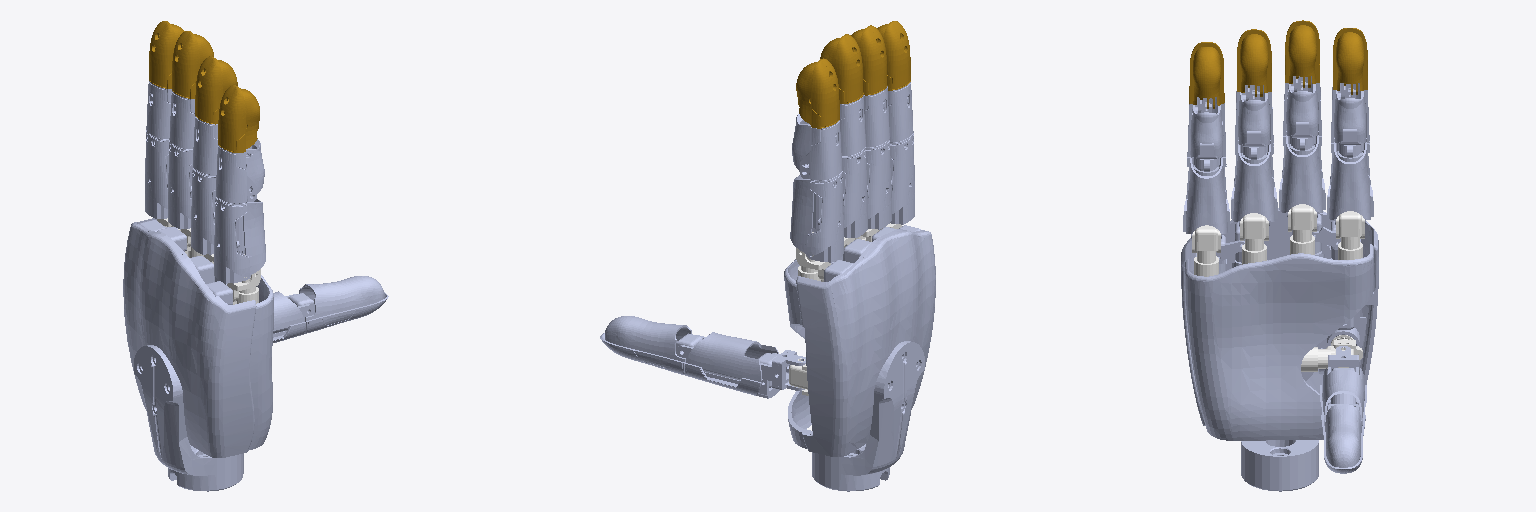
The robot description file, URDF, robot "gaiahand20_right":
<?xml version='1.0' encoding='utf-8'?>
<robot name="gaiahand20_right">
  <link name="right_base_link">
    <inertial>
      <origin xyz="-0.012736 0.0021055 0.089307" rpy="0 0 0" />
      <mass value="0.25552" />
      <inertia ixx="0.0001872" ixy="-6.513E-07" ixz="9.4711E-06" iyy="0.00012236" iyz="-3.9892E-06" izz="9.0958E-05" />
    </inertial>
    <visual>
      <origin xyz="0 0 0" rpy="0 0 0" />
      <geometry>
        <mesh filename="meshes/right/right_base_link.STL" />
      </geometry>
      <material name="">
        <color rgba="0.792156862745098 0.819607843137255 0.933333333333333 1" />
      </material>
    </visual>
    <collision>
      <origin xyz="0 0 0" rpy="0 0 0" />
      <geometry>
        <mesh filename="meshes/right/right_base_link.STL" />
      </geometry>
    </collision>
  </link>
  <link name="right_thumb_link_1">
    <inertial>
      <origin xyz="4.59873452525114E-06 0.0117078315613512 0.0170967629151401" rpy="0 0 0" />
      <mass value="0.0293793580935524" />
      <inertia ixx="0.000005" ixy="0.000001" ixz="0.000000" iyy="0.000002" iyz="0.000000" izz="0.000006" />
    </inertial>
    <visual>
      <origin xyz="0 0 0" rpy="0 0 0" />
      <geometry>
        <mesh filename="meshes/right/right_thumb_link_1.STL" />
      </geometry>
      <material name="">
        <color rgba="1 1 1 1" />
      </material>
    </visual>
    <collision>
      <origin xyz="0 0 0" rpy="0 0 0" />
      <geometry>
        <mesh filename="meshes/right/right_thumb_link_1.STL" />
      </geometry>
    </collision>
  </link>
  <joint name="right_thumb_joint_1" type="revolute">
    <origin xyz="-0.012868 0.032392 0.068452" rpy="-1.5708 -1.5705 -1.5708" />
    <parent link="right_base_link" />
    <child link="right_thumb_link_1" />
    <axis xyz="0 0 1" />
    <limit lower="-0.6981" upper="0.6981" effort="0" velocity="0" />
  </joint>
  <link name="right_thumb_link_2">
    <inertial>
      <origin xyz="0.00999538873035311 -3.32108297113054E-09 8.40028750509238E-05" rpy="0 0 0" />
      <mass value="0.004365126948583" />
      <inertia ixx="0.000000" ixy="0.000000" ixz="0.000000" iyy="0.000000" iyz="0.000000" izz="0.000000" />
    </inertial>
    <visual>
      <origin xyz="0 0 0" rpy="0 0 0" />
      <geometry>
        <mesh filename="meshes/right/right_thumb_link_2.STL" />
      </geometry>
      <material name="">
        <color rgba="0.792156862745098 0.819607843137255 0.933333333333333 1" />
      </material>
    </visual>
    <collision>
      <origin xyz="0 0 0" rpy="0 0 0" />
      <geometry>
        <mesh filename="meshes/right/right_thumb_link_2.STL" />
      </geometry>
    </collision>
  </link>
  <joint name="right_thumb_joint_2" type="revolute">
    <origin xyz="0 0 0.02355" rpy="0 -1.5708 0" />
    <parent link="right_thumb_link_1" />
    <child link="right_thumb_link_2" />
    <axis xyz="0 0 -1" />
    <limit lower="-1.0472" upper="1.5708" effort="0" velocity="0" />
  </joint>
  <link name="right_thumb_link_3">
    <inertial>
      <origin xyz="0.0155316673642969 -0.00474995778430732 5.38957684267233E-06" rpy="0 0 0" />
      <mass value="0.0306111200991876" />
      <inertia ixx="0.000001" ixy="0.000000" ixz="0.000000" iyy="0.000006" iyz="0.000000" izz="0.000006" />
    </inertial>
    <visual>
      <origin xyz="0 0 0" rpy="0 0 0" />
      <geometry>
        <mesh filename="meshes/right/right_thumb_link_3.STL" />
      </geometry>
      <material name="">
        <color rgba="0.792156862745098 0.819607843137255 0.933333333333333 1" />
      </material>
    </visual>
    <collision>
      <origin xyz="0 0 0" rpy="0 0 0" />
      <geometry>
        <mesh filename="meshes/right/right_thumb_link_3.STL" />
      </geometry>
    </collision>
  </link>
  <joint name="right_thumb_joint_3" type="revolute">
    <origin xyz="0.02 0 0" rpy="-1.5708 0 0" />
    <parent link="right_thumb_link_2" />
    <child link="right_thumb_link_3" />
    <axis xyz="0 0 1" />
    <limit lower="0" upper="1.5708" effort="0" velocity="0" />
  </joint>
  <link name="right_thumb_link_4">
    <inertial>
      <origin xyz="0.0158264161448218 -0.00419485306612965 4.87986416741748E-06" rpy="0 0 0" />
      <mass value="0.0275584560502729" />
      <inertia ixx="0.000001" ixy="0.000000" ixz="0.000000" iyy="0.000005" iyz="0.000000" izz="0.000005" />
    </inertial>
    <visual>
      <origin xyz="0 0 0" rpy="0 0 0" />
      <geometry>
        <mesh filename="meshes/right/right_thumb_link_4.STL" />
      </geometry>
      <material name="">
        <color rgba="0.792156862745098 0.819607843137255 0.933333333333333 1" />
      </material>
    </visual>
    <collision>
      <origin xyz="0 0 0" rpy="0 0 0" />
      <geometry>
        <mesh filename="meshes/right/right_thumb_link_4.STL" />
      </geometry>
    </collision>
  </link>
  <joint name="right_thumb_joint_4" type="revolute">
    <origin xyz="0.0465 0 0" rpy="0 0 0" />
    <parent link="right_thumb_link_3" />
    <child link="right_thumb_link_4" />
    <axis xyz="0 0 1" />
    <limit lower="0" upper="1.5708" effort="0" velocity="0" />
  </joint>
  <link name="right_index_link_1">
    <inertial>
      <origin xyz="0.000743908629022523 -5.55341323325853E-06 0.00357430253049612" rpy="0 0 0" />
      <mass value="0.0288509871302188" />
      <inertia ixx="0.000004" ixy="0.000000" ixz="0.000000" iyy="0.000004" iyz="0.000000" izz="0.000001" />
    </inertial>
    <visual>
      <origin xyz="0 0 0" rpy="0 0 0" />
      <geometry>
        <mesh filename="meshes/right/right_index_link_1.STL" />
      </geometry>
      <material name="">
        <color rgba="1 1 1 1" />
      </material>
    </visual>
    <collision>
      <origin xyz="0 0 0" rpy="0 0 0" />
      <geometry>
        <mesh filename="meshes/right/right_index_link_1.STL" />
      </geometry>
    </collision>
  </link>
  <joint name="right_index_joint_1" type="revolute">
    <origin xyz="-0.0016678 0.035869 0.1306" rpy="-1.5708 -1.5705 -1.5708" />
    <parent link="right_base_link" />
    <child link="right_index_link_1" />
    <axis xyz="0 0 1" />
    <limit lower="-0.6981" upper="0.3491" effort="0" velocity="0" />
  </joint>
  <link name="right_index_link_2">
    <inertial>
      <origin xyz="0.0313933776378512 -0.00152877020642319 -4.42497851162182E-06" rpy="0 0 0" />
      <mass value="0.0304803820111362" />
      <inertia ixx="0.000007" ixy="0.000000" ixz="-0.000001" iyy="0.000007" iyz="0.000000" izz="0.000001" />
    </inertial>
    <visual>
      <origin xyz="0 0 0" rpy="0 0 0" />
      <geometry>
        <mesh filename="meshes/right/right_index_link_2.STL" />
      </geometry>
      <material name="">
        <color rgba="0.792156862745098 0.819607843137255 0.933333333333333 1" />
      </material>
    </visual>
    <collision>
      <origin xyz="0 0 0" rpy="0 0 0" />
      <geometry>
        <mesh filename="meshes/right/right_index_link_2.STL" />
      </geometry>
    </collision>
  </link>
  <joint name="right_index_joint_2" type="revolute">
    <origin xyz="0.014 0 0" rpy="1.5708 0 0" />
    <parent link="right_index_link_1" />
    <child link="right_index_link_2" />
    <axis xyz="0 0 1" />
    <limit lower="0" upper="1.5708" effort="0" velocity="0" />
  </joint>
  <link name="right_index_link_3">
    <inertial>
      <origin xyz="0.0121799388549619 -0.00381320078798462 -0.0010283975785302" rpy="0 0 0" />
      <mass value="0.00393370093981394" />
      <inertia ixx="0.000000" ixy="0.000000" ixz="0.000000" iyy="0.000000" iyz="0.000000" izz="0.000000" />
    </inertial>
    <visual>
      <origin xyz="0 0 0" rpy="0 0 0" />
      <geometry>
        <mesh filename="meshes/right/right_index_link_3.STL" />
      </geometry>
      <material name="">
        <color rgba="0.792156862745098 0.819607843137255 0.933333333333333 1" />
      </material>
    </visual>
    <collision>
      <origin xyz="0 0 0" rpy="0 0 0" />
      <geometry>
        <mesh filename="meshes/right/right_index_link_3.STL" />
      </geometry>
    </collision>
  </link>
  <joint name="right_index_joint_3" type="revolute">
    <origin xyz="0.0489 0.00312 0" rpy="0 0 0" />
    <parent link="right_index_link_2" />
    <child link="right_index_link_3" />
    <axis xyz="0 0 1" />
    <limit lower="0" upper="1.5708" effort="0" velocity="0" />
  </joint>
  <link name="right_index_link_4">
    <inertial>
      <origin xyz="0.0093271688625714 -0.00406005222330917 7.09260613723853E-05" rpy="0 0 0" />
      <mass value="0.00496625808965121" />
      <inertia ixx="0.000000" ixy="0.000000" ixz="0.000000" iyy="0.000000" iyz="0.000000" izz="0.000000" />
    </inertial>
    <visual>
      <origin xyz="0 0 0" rpy="0 0 0" />
      <geometry>
        <mesh filename="meshes/right/right_index_link_4.STL" />
      </geometry>
      <material name="">
        <color rgba="0.729411764705882 0.552941176470588 0.145098039215686 1" />
      </material>
    </visual>
    <collision>
      <origin xyz="0 0 0" rpy="0 0 0" />
      <geometry>
        <mesh filename="meshes/right/right_index_link_4.STL" />
      </geometry>
    </collision>
  </link>
  <joint name="right_index_joint_4" type="revolute">
    <origin xyz="0.03 0 0" rpy="0 0 0" />
    <parent link="right_index_link_3" />
    <child link="right_index_link_4" />
    <axis xyz="0 0 1" />
    <mimic joint="right_index_joint_3" multiplier="1.0" offset="0" />
    <limit lower="0" upper="1.5708" effort="0" velocity="0" />
  </joint>
  <link name="right_middle_link_1">
    <inertial>
      <origin xyz="0.000743895525769034 -7.09562966077701E-06 0.0035743025137824" rpy="0 0 0" />
      <mass value="0.0288509871628647" />
      <inertia ixx="0.000004" ixy="0.000000" ixz="0.000000" iyy="0.000004" iyz="0.000000" izz="0.000001" />
    </inertial>
    <visual>
      <origin xyz="0 0 0" rpy="0 0 0" />
      <geometry>
        <mesh filename="meshes/right/right_middle_link_1.STL" />
      </geometry>
      <material name="">
        <color rgba="1 1 1 1" />
      </material>
    </visual>
    <collision>
      <origin xyz="0 0 0" rpy="0 0 0" />
      <geometry>
        <mesh filename="meshes/right/right_middle_link_1.STL" />
      </geometry>
    </collision>
  </link>
  <joint name="right_middle_joint_1" type="revolute">
    <origin xyz="-0.0016678 0.011319 0.13459" rpy="-1.5708 -1.5705 -1.5708" />
    <parent link="right_base_link" />
    <child link="right_middle_link_1" />
    <axis xyz="0 0 1" />
    <limit lower="-0.5236" upper="0.5236" effort="0" velocity="0" />
  </joint>
  <link name="right_middle_link_2">
    <inertial>
      <origin xyz="0.0313933781819635 -0.00152877026923516 -4.42504304134193E-06" rpy="0 0 0" />
      <mass value="0.0304803814022287" />
      <inertia ixx="0.000007" ixy="0.000000" ixz="-0.000001" iyy="0.000007" iyz="0.000000" izz="0.000001" />
    </inertial>
    <visual>
      <origin xyz="0 0 0" rpy="0 0 0" />
      <geometry>
        <mesh filename="meshes/right/right_middle_link_2.STL" />
      </geometry>
      <material name="">
        <color rgba="0.792156862745098 0.819607843137255 0.933333333333333 1" />
      </material>
    </visual>
    <collision>
      <origin xyz="0 0 0" rpy="0 0 0" />
      <geometry>
        <mesh filename="meshes/right/right_middle_link_2.STL" />
      </geometry>
    </collision>
  </link>
  <joint name="right_middle_joint_2" type="revolute">
    <origin xyz="0.014 -2.9024E-05 0" rpy="1.5708 0 -0.0020732" />
    <parent link="right_middle_link_1" />
    <child link="right_middle_link_2" />
    <axis xyz="0 0 1" />
    <limit lower="0" upper="1.5708" effort="0" velocity="0" />
  </joint>
  <link name="right_middle_link_3">
    <inertial>
      <origin xyz="0.012179937973861 -0.00381320273518451 -0.00102839797795001" rpy="0 0 0" />
      <mass value="0.00393370033061842" />
      <inertia ixx="0.000000" ixy="0.000000" ixz="0.000000" iyy="0.000000" iyz="0.000000" izz="0.000000" />
    </inertial>
    <visual>
      <origin xyz="0 0 0" rpy="0 0 0" />
      <geometry>
        <mesh filename="meshes/right/right_middle_link_3.STL" />
      </geometry>
      <material name="">
        <color rgba="0.792156862745098 0.819607843137255 0.933333333333333 1" />
      </material>
    </visual>
    <collision>
      <origin xyz="0 0 0" rpy="0 0 0" />
      <geometry>
        <mesh filename="meshes/right/right_middle_link_3.STL" />
      </geometry>
    </collision>
  </link>
  <joint name="right_middle_joint_3" type="revolute">
    <origin xyz="0.0489 0.00312 0" rpy="0 0 0" />
    <parent link="right_middle_link_2" />
    <child link="right_middle_link_3" />
    <axis xyz="0 0 1" />
    <limit lower="0" upper="1.5708" effort="0" velocity="0" />
  </joint>
  <link name="right_middle_link_4">
    <inertial>
      <origin xyz="0.00932716914952836 -0.00406005253689868 7.09260383274651E-05" rpy="0 0 0" />
      <mass value="0.00496625793579307" />
      <inertia ixx="0.000000" ixy="0.000000" ixz="0.000000" iyy="0.000000" iyz="0.000000" izz="0.000000" />
    </inertial>
    <visual>
      <origin xyz="0 0 0" rpy="0 0 0" />
      <geometry>
        <mesh filename="meshes/right/right_middle_link_4.STL" />
      </geometry>
      <material name="">
        <color rgba="0.729411764705882 0.552941176470588 0.145098039215686 1" />
      </material>
    </visual>
    <collision>
      <origin xyz="0 0 0" rpy="0 0 0" />
      <geometry>
        <mesh filename="meshes/right/right_middle_link_4.STL" />
      </geometry>
    </collision>
  </link>
  <joint name="right_middle_joint_4" type="revolute">
    <origin xyz="0.03 0 0" rpy="0 0 0" />
    <parent link="right_middle_link_3" />
    <child link="right_middle_link_4" />
    <axis xyz="0 0 1" />
    <mimic joint="right_middle_joint_3" multiplier="1.0" offset="0" />
    <limit lower="0" upper="1.5708" effort="0" velocity="0" />
  </joint>
  <link name="right_ring_link_1">
    <inertial>
      <origin xyz="0.000743908629034874 -5.55341323327761E-06 0.00357430253047761" rpy="0 0 0" />
      <mass value="0.0288509871302187" />
      <inertia ixx="0.000004" ixy="0.000000" ixz="0.000000" iyy="0.000004" iyz="0.000000" izz="0.000001" />
    </inertial>
    <visual>
      <origin xyz="0 0 0" rpy="0 0 0" />
      <geometry>
        <mesh filename="meshes/right/right_ring_link_1.STL" />
      </geometry>
      <material name="">
        <color rgba="1 1 1 1" />
      </material>
    </visual>
    <collision>
      <origin xyz="0 0 0" rpy="0 0 0" />
      <geometry>
        <mesh filename="meshes/right/right_ring_link_1.STL" />
      </geometry>
    </collision>
  </link>
  <joint name="right_ring_joint_1" type="revolute">
    <origin xyz="-0.0016678 -0.013175 0.12959" rpy="-1.5708 -1.5705 -1.5708" />
    <parent link="right_base_link" />
    <child link="right_ring_link_1" />
    <axis xyz="0 0 1" />
    <limit lower="-0.3491" upper="0.6109" effort="0" velocity="0" />
  </joint>
  <link name="right_ring_link_2">
    <inertial>
      <origin xyz="0.0313933776378529 -0.00152877020638439 -4.42497851214224E-06" rpy="0 0 0" />
      <mass value="0.0304803820111361" />
      <inertia ixx="0.000007" ixy="0.000000" ixz="-0.000001" iyy="0.000007" iyz="0.000000" izz="0.000001" />
    </inertial>
    <visual>
      <origin xyz="0 0 0" rpy="0 0 0" />
      <geometry>
        <mesh filename="meshes/right/right_ring_link_2.STL" />
      </geometry>
      <material name="">
        <color rgba="0.792156862745098 0.819607843137255 0.933333333333333 1" />
      </material>
    </visual>
    <collision>
      <origin xyz="0 0 0" rpy="0 0 0" />
      <geometry>
        <mesh filename="meshes/right/right_ring_link_2.STL" />
      </geometry>
    </collision>
  </link>
  <joint name="right_ring_joint_2" type="revolute">
    <origin xyz="0.014 0 0" rpy="1.5708 0 0" />
    <parent link="right_ring_link_1" />
    <child link="right_ring_link_2" />
    <axis xyz="0 0 1" />
    <limit lower="0" upper="1.5708" effort="0" velocity="0" />
  </joint>
  <link name="right_ring_link_3">
    <inertial>
      <origin xyz="0.012179938765627 -0.00381320056058107 -0.00102839749609262" rpy="0 0 0" />
      <mass value="0.00393370099614391" />
      <inertia ixx="0.000000" ixy="0.000000" ixz="0.000000" iyy="0.000000" iyz="0.000000" izz="0.000000" />
    </inertial>
    <visual>
      <origin xyz="0 0 0" rpy="0 0 0" />
      <geometry>
        <mesh filename="meshes/right/right_ring_link_3.STL" />
      </geometry>
      <material name="">
        <color rgba="0.792156862745098 0.819607843137255 0.933333333333333 1" />
      </material>
    </visual>
    <collision>
      <origin xyz="0 0 0" rpy="0 0 0" />
      <geometry>
        <mesh filename="meshes/right/right_ring_link_3.STL" />
      </geometry>
    </collision>
  </link>
  <joint name="right_ring_joint_3" type="revolute">
    <origin xyz="0.0489 0.00312 0" rpy="0 0 0" />
    <parent link="right_ring_link_2" />
    <child link="right_ring_link_3" />
    <axis xyz="0 0 1" />
    <limit lower="0" upper="1.5708" effort="0" velocity="0" />
  </joint>
  <link name="right_ring_link_4">
    <inertial>
      <origin xyz="0.00932716886256235 -0.00406005222329535 7.09260613699393E-05" rpy="0 0 0" />
      <mass value="0.004966258089651" />
      <inertia ixx="0.000000" ixy="0.000000" ixz="0.000000" iyy="0.000000" iyz="0.000000" izz="0.000000" />
    </inertial>
    <visual>
      <origin xyz="0 0 0" rpy="0 0 0" />
      <geometry>
        <mesh filename="meshes/right/right_ring_link_4.STL" />
      </geometry>
      <material name="">
        <color rgba="0.729411764705882 0.552941176470588 0.145098039215686 1" />
      </material>
    </visual>
    <collision>
      <origin xyz="0 0 0" rpy="0 0 0" />
      <geometry>
        <mesh filename="meshes/right/right_ring_link_4.STL" />
      </geometry>
    </collision>
  </link>
  <joint name="right_ring_joint_4" type="revolute">
    <origin xyz="0.03 0 0" rpy="0 0 0" />
    <parent link="right_ring_link_3" />
    <child link="right_ring_link_4" />
    <axis xyz="0 0 1" />
    <mimic joint="right_ring_joint_3" multiplier="1.0" offset="0" />
    <limit lower="0" upper="1.5708" effort="0" velocity="0" />
  </joint>
  <link name="right_little_link_1">
    <inertial>
      <origin xyz="0.000743895525769471 -7.09562966128702E-06 0.00357430251378242" rpy="0 0 0" />
      <mass value="0.0288509871628647" />
      <inertia ixx="0.000004" ixy="0.000000" ixz="0.000000" iyy="0.000004" iyz="0.000000" izz="0.000001" />
    </inertial>
    <visual>
      <origin xyz="0 0 0" rpy="0 0 0" />
      <geometry>
        <mesh filename="meshes/right/right_little_link_1.STL" />
      </geometry>
      <material name="">
        <color rgba="1 1 1 1" />
      </material>
    </visual>
    <collision>
      <origin xyz="0 0 0" rpy="0 0 0" />
      <geometry>
        <mesh filename="meshes/right/right_little_link_1.STL" />
      </geometry>
    </collision>
  </link>
  <joint name="right_little_joint_1" type="revolute">
    <origin xyz="-0.0016678 -0.037584 0.12258" rpy="-1.5708 -1.5705 -1.5708" />
    <parent link="right_base_link" />
    <child link="right_little_link_1" />
    <axis xyz="0 0 1" />
    <limit lower="0" upper="0.6981" effort="0" velocity="0" />
  </joint>
  <link name="right_little_link_2">
    <inertial>
      <origin xyz="0.0313933781817062 -0.0015287702708865 -4.42504300206953E-06" rpy="0 0 0" />
      <mass value="0.0304803814066348" />
      <inertia ixx="0.000007" ixy="0.000000" ixz="-0.000001" iyy="0.000007" iyz="0.000000" izz="0.000001" />
    </inertial>
    <visual>
      <origin xyz="0 0 0" rpy="0 0 0" />
      <geometry>
        <mesh filename="meshes/right/right_little_link_2.STL" />
      </geometry>
      <material name="">
        <color rgba="0.792156862745098 0.819607843137255 0.933333333333333 1" />
      </material>
    </visual>
    <collision>
      <origin xyz="0 0 0" rpy="0 0 0" />
      <geometry>
        <mesh filename="meshes/right/right_little_link_2.STL" />
      </geometry>
    </collision>
  </link>
  <joint name="right_little_joint_2" type="revolute">
    <origin xyz="0.014 -2.9024E-05 0" rpy="1.5708 0 -0.0020732" />
    <parent link="right_little_link_1" />
    <child link="right_little_link_2" />
    <axis xyz="0 0 1" />
    <limit lower="0" upper="1.5708" effort="0" velocity="0" />
  </joint>
  <link name="right_little_link_3">
    <inertial>
      <origin xyz="0.0121799378841558 -0.00381320250691307 -0.0010283978953143" rpy="0 0 0" />
      <mass value="0.00393370038722117" />
      <inertia ixx="0.000000" ixy="0.000000" ixz="0.000000" iyy="0.000000" iyz="0.000000" izz="0.000000" />
    </inertial>
    <visual>
      <origin xyz="0 0 0" rpy="0 0 0" />
      <geometry>
        <mesh filename="meshes/right/right_little_link_3.STL" />
      </geometry>
      <material name="">
        <color rgba="0.792156862745098 0.819607843137255 0.933333333333333 1" />
      </material>
    </visual>
    <collision>
      <origin xyz="0 0 0" rpy="0 0 0" />
      <geometry>
        <mesh filename="meshes/right/right_little_link_3.STL" />
      </geometry>
    </collision>
  </link>
  <joint name="right_little_joint_3" type="revolute">
    <origin xyz="0.0489 0.00312 0" rpy="0 0 0" />
    <parent link="right_little_link_2" />
    <child link="right_little_link_3" />
    <axis xyz="0 0 1" />
    <limit lower="0" upper="1.5708" effort="0" velocity="0" />
  </joint>
  <link name="right_little_link_4">
    <inertial>
      <origin xyz="0.00932716914948373 -0.00406005253700263 7.09260383258623E-05" rpy="0 0 0" />
      <mass value="0.00496625793579298" />
      <inertia ixx="0.000000" ixy="0.000000" ixz="0.000000" iyy="0.000000" iyz="0.000000" izz="0.000000" />
    </inertial>
    <visual>
      <origin xyz="0 0 0" rpy="0 0 0" />
      <geometry>
        <mesh filename="meshes/right/right_little_link_4.STL" />
      </geometry>
      <material name="">
        <color rgba="0.729411764705882 0.552941176470588 0.145098039215686 1" />
      </material>
    </visual>
    <collision>
      <origin xyz="0 0 0" rpy="0 0 0" />
      <geometry>
        <mesh filename="meshes/right/right_little_link_4.STL" />
      </geometry>
    </collision>
  </link>
  <joint name="right_little_joint_4" type="revolute">
    <origin xyz="0.03 0 0" rpy="0 0 0" />
    <parent link="right_little_link_3" />
    <child link="right_little_link_4" />
    <axis xyz="0 0 1" />
    <mimic joint="right_little_joint_3" multiplier="1.0" offset="0" />
    <limit lower="0" upper="1.5708" effort="0" velocity="0" />
  </joint>
  <link name="right_thumb_tip" />
  <joint name="right_thumb_tip_joint" type="fixed">
    <origin xyz="0.046 0 0" rpy="0 0 0" />
    <parent link="right_thumb_link_4" />
    <child link="right_thumb_tip" />
  </joint>
  <link name="right_index_tip" />
  <joint name="right_index_tip_joint" type="fixed">
    <origin xyz="0.028 0 0" rpy="0 0 0" />
    <parent link="right_index_link_4" />
    <child link="right_index_tip" />
  </joint>
  <link name="right_middle_tip" />
  <joint name="right_middle_tip_joint" type="fixed">
    <origin xyz="0.028 0 0" rpy="0 0 0" />
    <parent link="right_middle_link_4" />
    <child link="right_middle_tip" />
  </joint>
  <link name="right_ring_tip" />
  <joint name="right_ring_tip_joint" type="fixed">
    <origin xyz="0.028 0 0" rpy="0 0 0" />
    <parent link="right_ring_link_4" />
    <child link="right_ring_tip" />
  </joint>
  <link name="right_little_tip" />
  <joint name="right_little_tip_joint" type="fixed">
    <origin xyz="0.028 0 0" rpy="0 0 0" />
    <parent link="right_little_link_4" />
    <child link="right_little_tip" />
  </joint>
</robot>

--- Render facts (derived) ---
Views: 3 orthographic renders of the robot side by side, from view 1: azimuth 30°, elevation 25°; view 2: azimuth 150°, elevation 25°; view 3: azimuth 270°, elevation 25°.
Robot: gaiahand20_right — 26 links, 25 joints (20 revolute, 5 fixed); root link right_base_link; default pose: all joints at 0.
Visible links, largest first — view 1: right_base_link, right_little_link_2, right_thumb_link_4, right_little_link_3, right_little_link_4, right_middle_link_2, right_ring_link_4, right_ring_link_2, right_index_link_2, right_middle_link_4, right_index_link_4, right_thumb_link_3 (+4 smaller); view 2: right_base_link, right_thumb_link_3, right_index_link_2, right_thumb_link_4, right_index_link_3, right_index_link_4, right_middle_link_2, right_ring_link_2, right_little_link_2, right_middle_link_4, right_ring_link_4, right_little_link_4 (+5 smaller); view 3: right_base_link, right_ring_link_2, right_index_link_2, right_middle_link_2, right_little_link_2, right_thumb_link_4, right_ring_link_4, right_middle_link_4, right_index_link_4, right_little_link_4, right_little_link_3, right_index_link_3 (+9 smaller).
Boxes of the visible links, <box> form: right_base_link: <box>123,218,273,491</box>; right_little_link_2: <box>214,186,265,283</box>; right_thumb_link_4: <box>289,276,388,333</box>; right_little_link_3: <box>216,139,264,204</box>; right_little_link_4: <box>218,85,259,152</box>; right_middle_link_2: <box>168,141,192,229</box>; right_ring_link_4: <box>195,56,237,124</box>; right_ring_link_2: <box>191,168,215,254</box>; right_index_link_2: <box>145,131,168,218</box>; right_middle_link_4: <box>172,31,213,98</box>; right_index_link_4: <box>149,21,184,88</box>; right_thumb_link_3: <box>273,291,314,342</box>; right_base_link: <box>784,225,935,491</box>; right_thumb_link_3: <box>676,332,779,398</box>; right_index_link_2: <box>790,162,843,262</box>; right_thumb_link_4: <box>600,316,702,375</box>; right_index_link_3: <box>792,114,841,181</box>; right_index_link_4: <box>796,58,839,128</box>; right_middle_link_2: <box>842,149,867,237</box>; right_ring_link_2: <box>866,140,891,229</box>; right_little_link_2: <box>890,134,914,224</box>; right_middle_link_4: <box>820,34,863,103</box>; right_ring_link_4: <box>851,25,887,95</box>; right_little_link_4: <box>877,21,910,90</box>; right_base_link: <box>1181,208,1378,491</box>; right_ring_link_2: <box>1231,131,1277,226</box>; right_index_link_2: <box>1327,129,1373,224</box>; right_middle_link_2: <box>1279,122,1325,217</box>; right_little_link_2: <box>1183,143,1229,238</box>; right_thumb_link_4: <box>1322,404,1364,473</box>; right_ring_link_4: <box>1237,29,1271,96</box>; right_middle_link_4: <box>1285,20,1319,87</box>; right_index_link_4: <box>1333,28,1367,94</box>; right_little_link_4: <box>1189,42,1224,108</box>; right_little_link_3: <box>1187,97,1225,157</box>; right_index_link_3: <box>1331,83,1369,142</box>.
Bounding box of the posed robot: 0.1618 × 0.1011 × 0.2553 m (x, y, z).
Meshes: 21 distinct files referenced, 21 mesh visuals loaded (21 binary STL).
